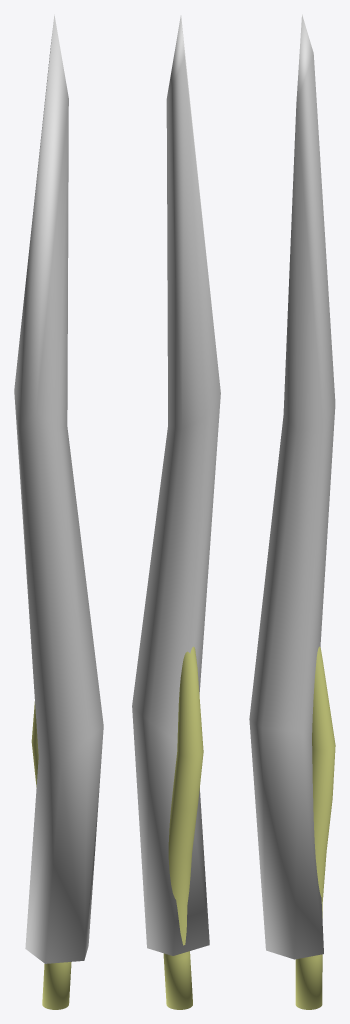
3 renders of one model, left to right at view 1: azimuth 30°, elevation 25°; view 2: azimuth 210°, elevation 25°; view 3: azimuth 270°, elevation 25°, orthographic.
Visible parts, largest first — view 1: racine_LD, Cylinder; view 2: racine_LD, Cylinder; view 3: racine_LD, Cylinder.
Part boxes in pixels (x1,y1,x2,y2): racine_LD: (14,14,103,963); Cylinder: (31,701,71,1009); racine_LD: (132,15,220,955); Cylinder: (163,646,203,1009); racine_LD: (249,14,335,959); Cylinder: (295,646,335,1009).
Bounding box in the file's own units: 0.6188 × 9.11 × 0.7198.
